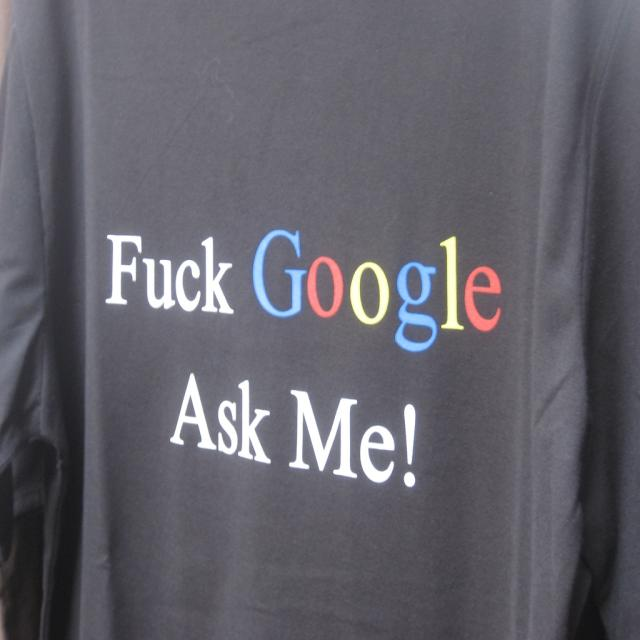google: (250, 225, 510, 358)
